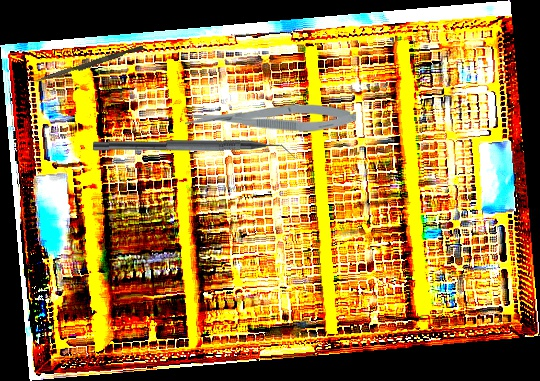Chopper: (92, 137, 298, 165)
Micro Scissor: (184, 101, 357, 133)
Pusher: (34, 42, 145, 87)
